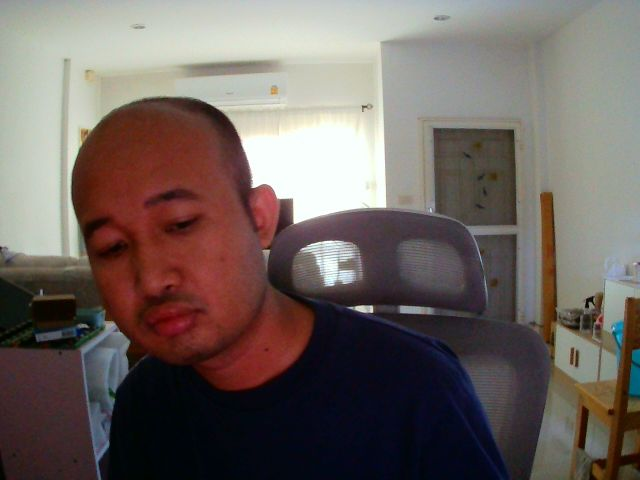face: (69, 94, 279, 363)
